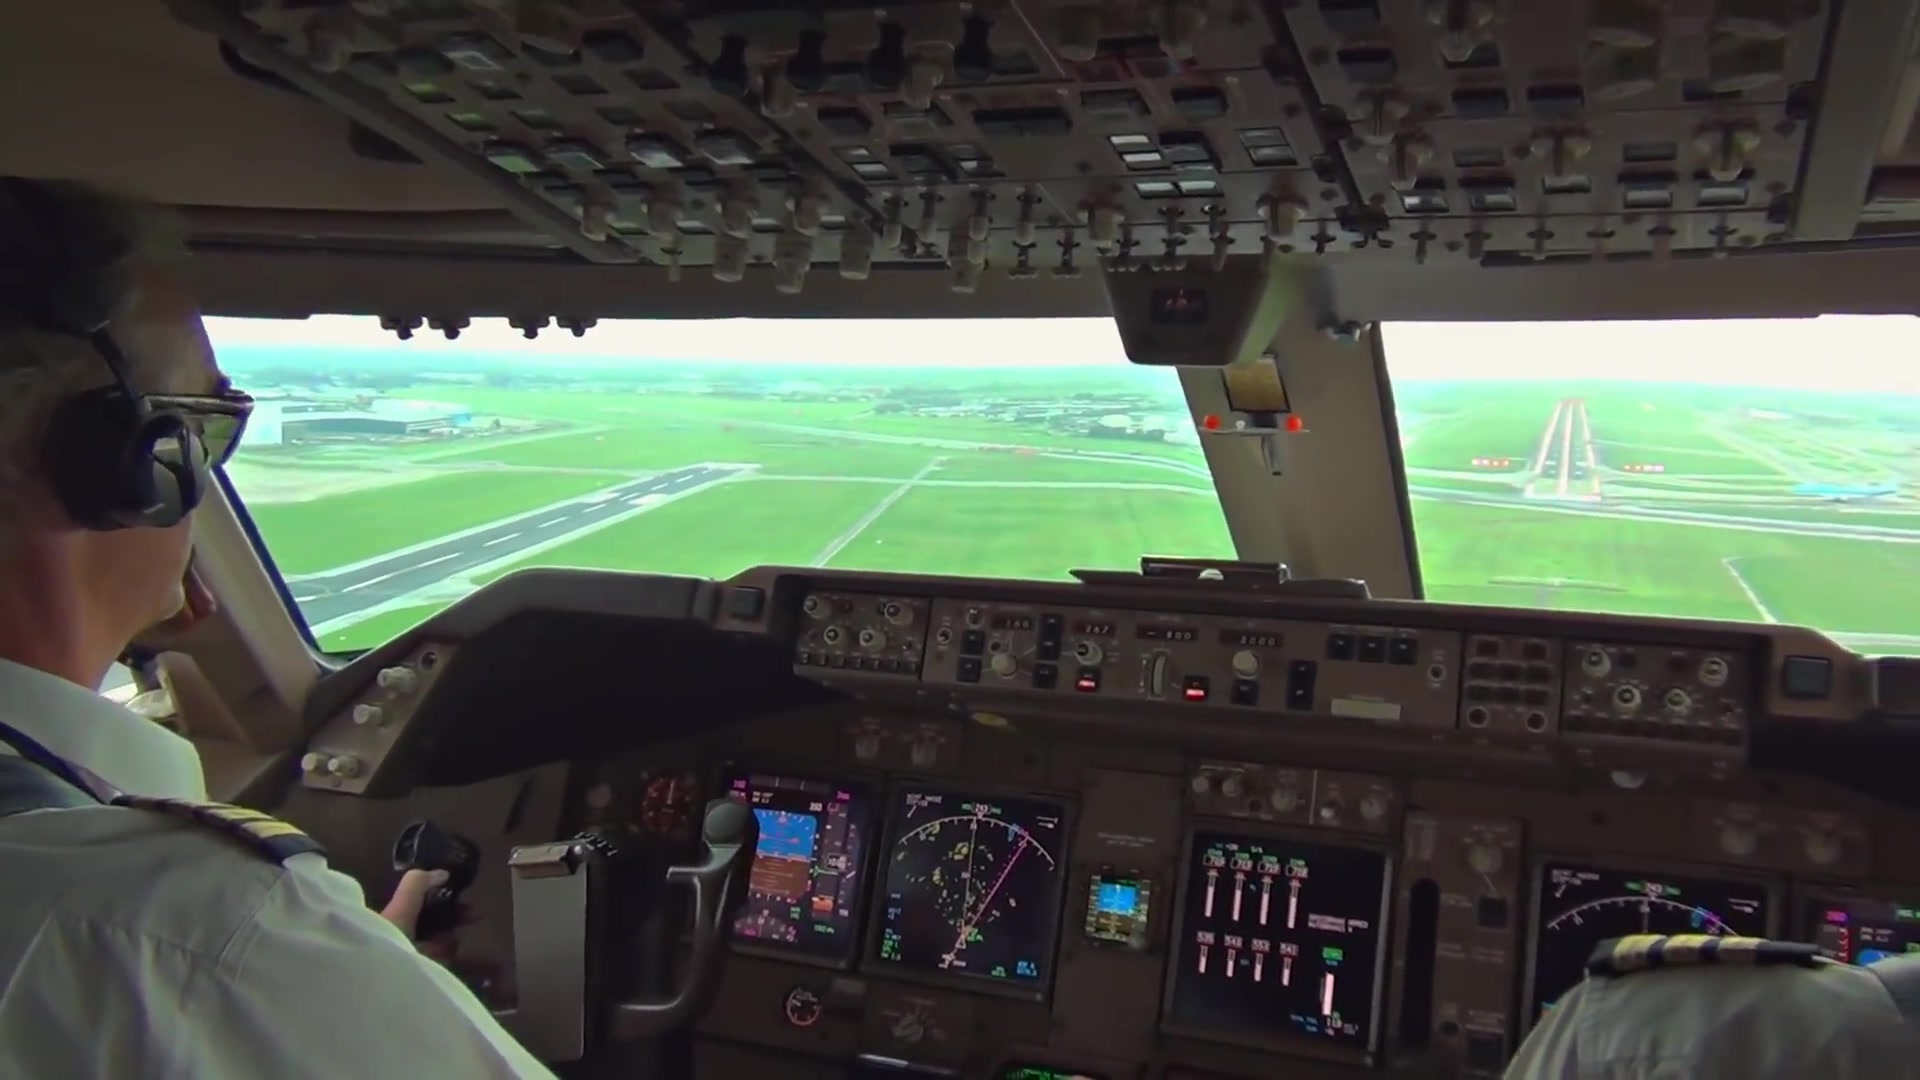runway: (207, 459, 771, 637), (1526, 394, 1609, 509)
